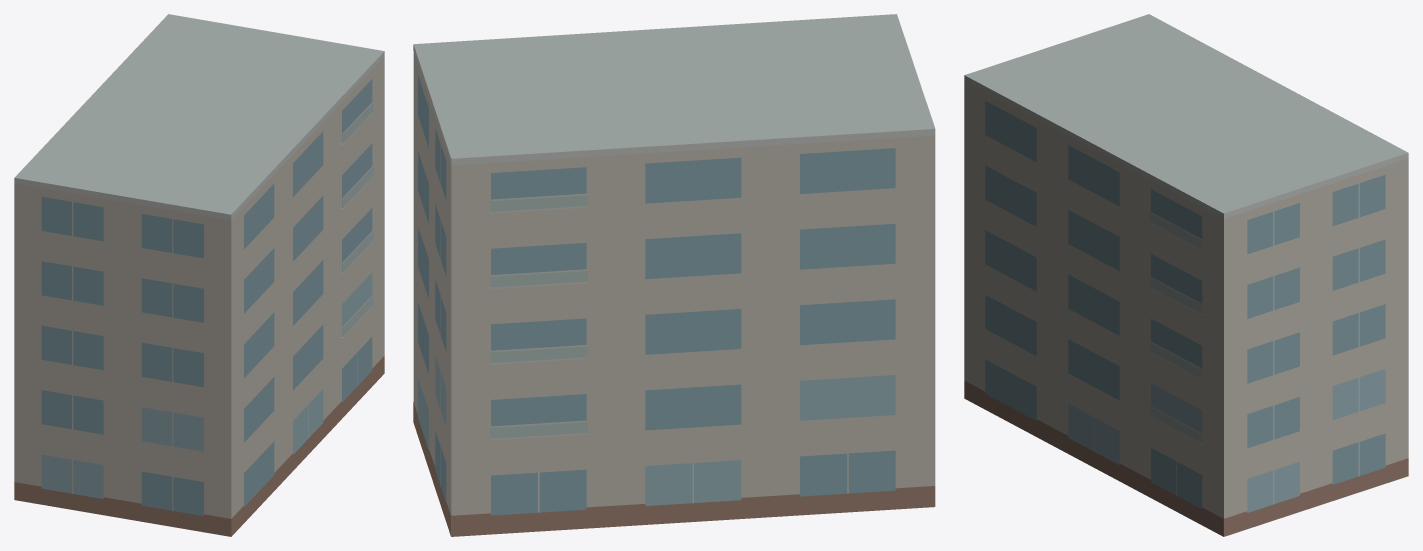
The model's file is survey-upis-32724203.glb.
3 renders of one model, left to right at view 1: azimuth 30°, elevation 25°; view 2: azimuth 150°, elevation 25°; view 3: azimuth 270°, elevation 25°, orthographic. The views are drawn at different scales.
Parts seen in each view (by area): view 1: survey-upis-32724203.tmp; view 2: survey-upis-32724203.tmp; view 3: survey-upis-32724203.tmp.
Boxes of the visible parts, <box> form: survey-upis-32724203.tmp: <box>14,14,384,536</box>; survey-upis-32724203.tmp: <box>413,14,935,536</box>; survey-upis-32724203.tmp: <box>964,14,1408,536</box>.
Bounding box in the file's own units: 18.54 × 14 × 17.44.
